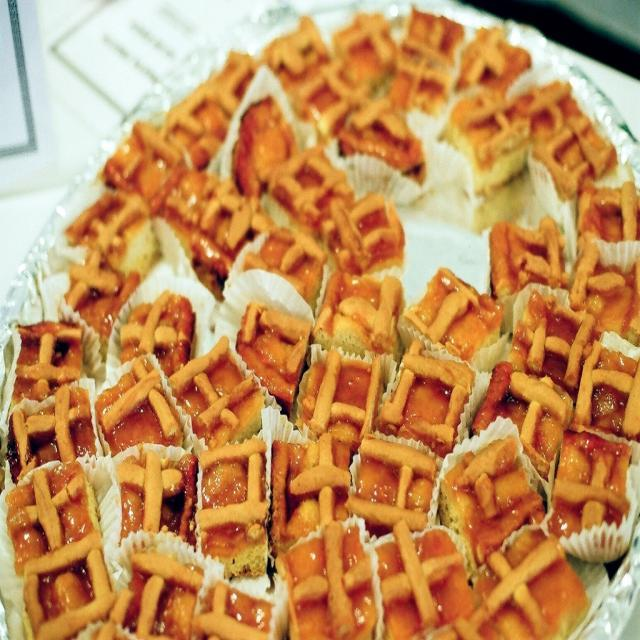Waffle: (0, 7, 639, 639)
